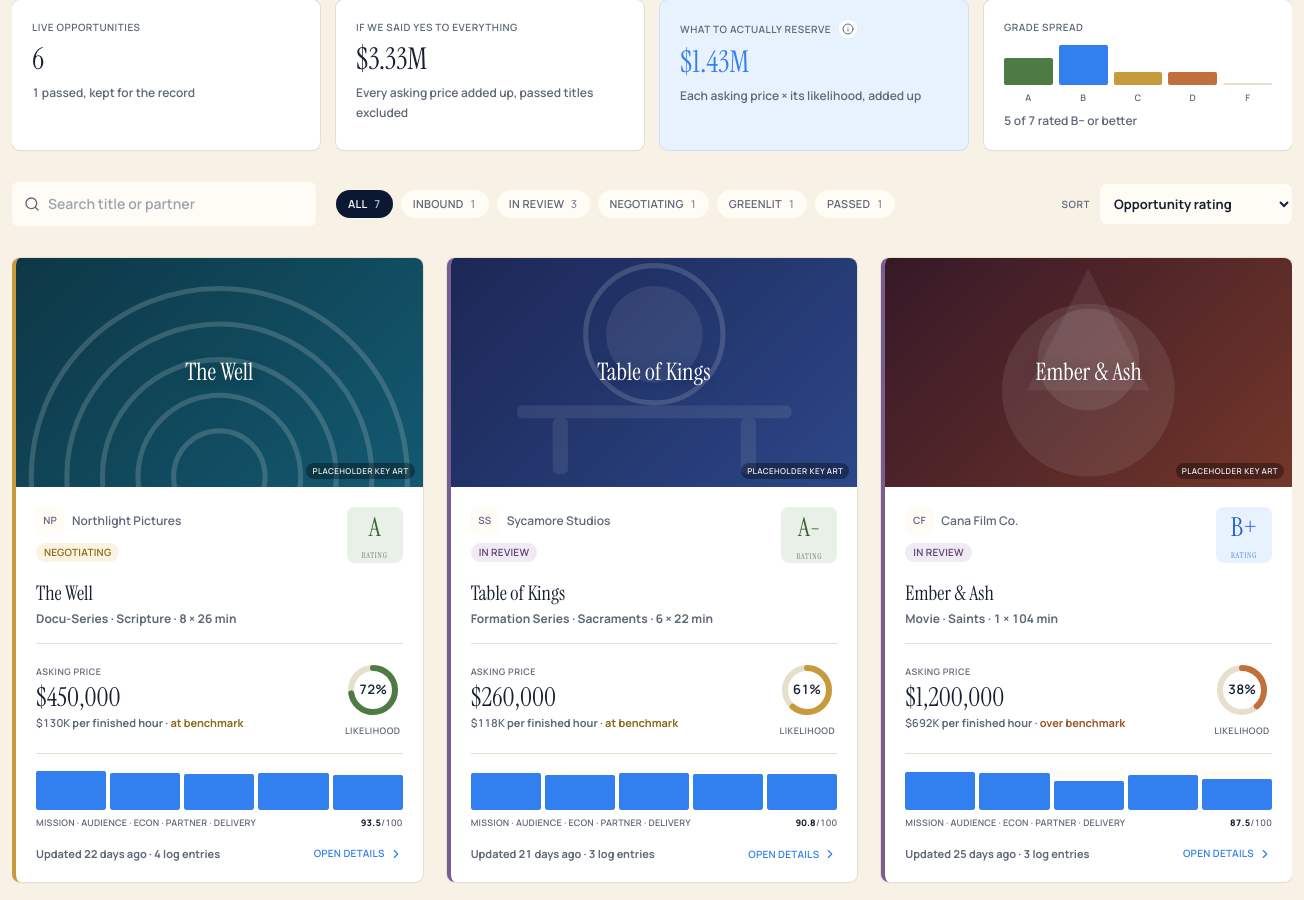
it: CoproductionSlate › searches by partner as well as title
Type "kestrel" into the search field named "Search opportunities". click: point(164, 204)
box: [12, 182, 316, 226]
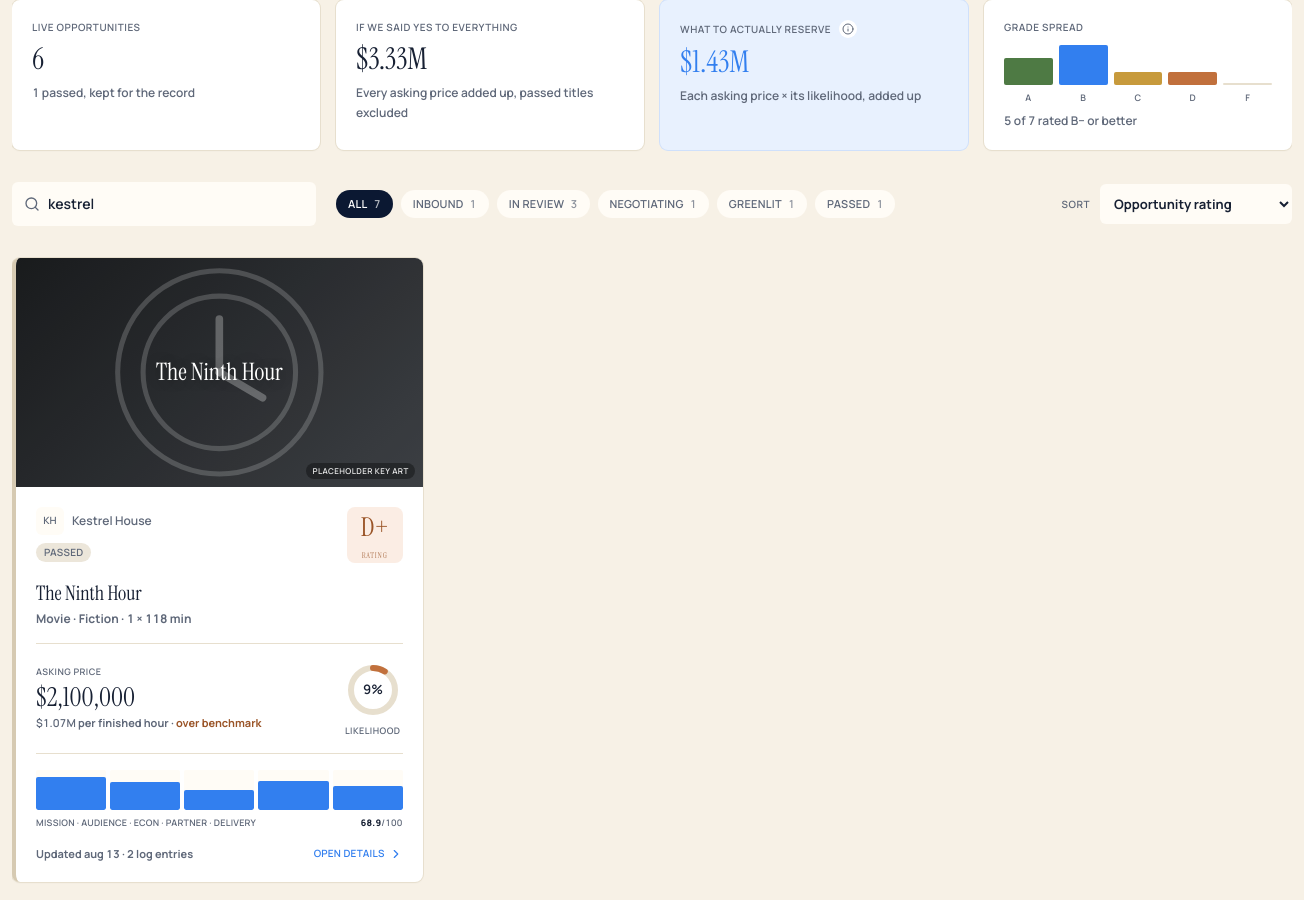
Expected: the number of buttons named "Open details for" is 1, [16, 258, 423, 882]
